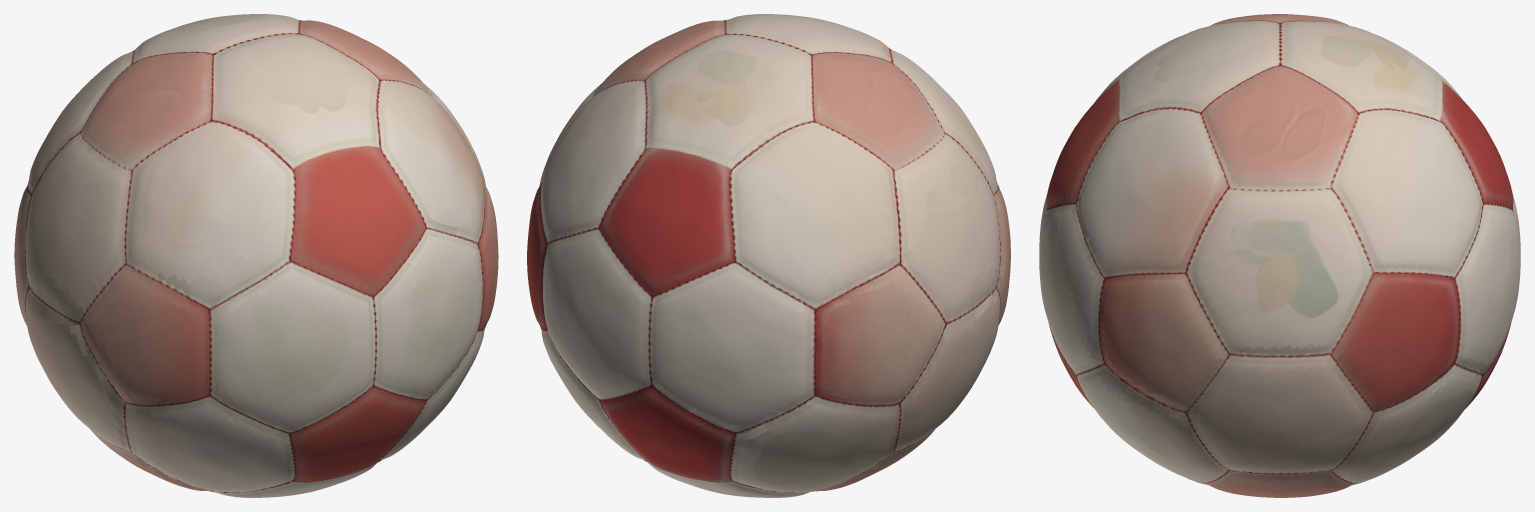
Rendered from ball_soccer.glb.
3 views of the same model, side by side, from view 1: azimuth 30°, elevation 25°; view 2: azimuth 150°, elevation 25°; view 3: azimuth 270°, elevation 25° (orthographic).
Visible parts, largest first — view 1: Mesh0; view 2: Mesh0; view 3: Mesh0.
Part boxes in pixels (x1,y1,x2,y2): Mesh0: (14, 14, 498, 497); Mesh0: (527, 14, 1010, 497); Mesh0: (1039, 14, 1520, 497).
Bounding box in the file's own units: 1.9 × 1.9 × 1.9.
1 material, 1 textured.
